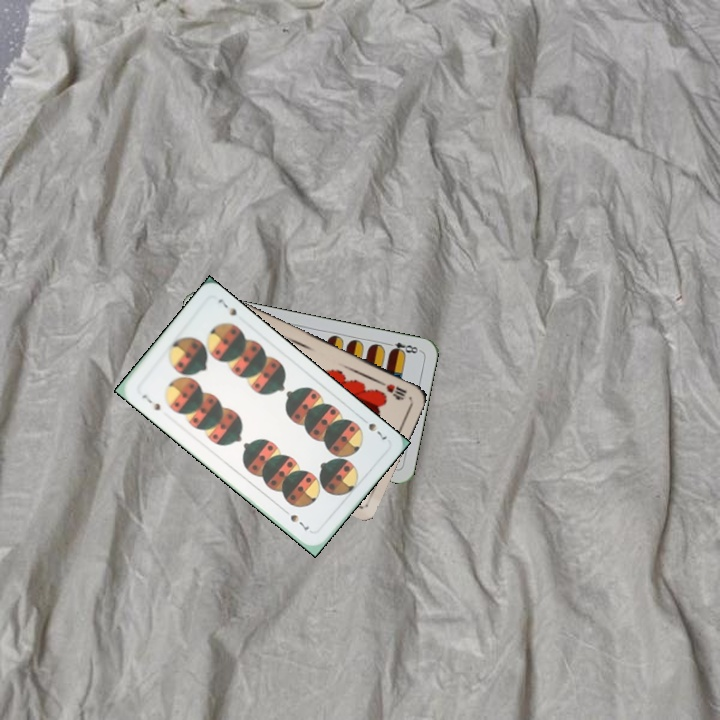E8: (382, 338, 422, 357)
H10: (375, 377, 409, 401)
S7: (364, 419, 390, 443), (138, 391, 163, 413)
